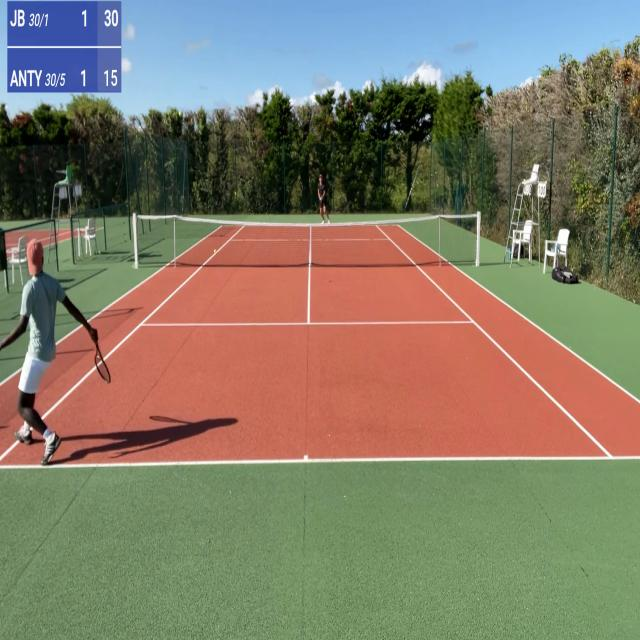ball: (214, 249, 216, 254)
